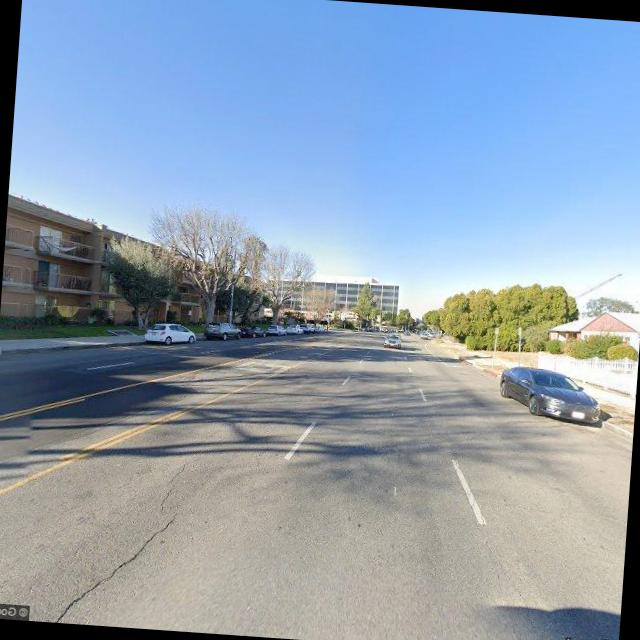crack: (60, 407, 237, 629)
